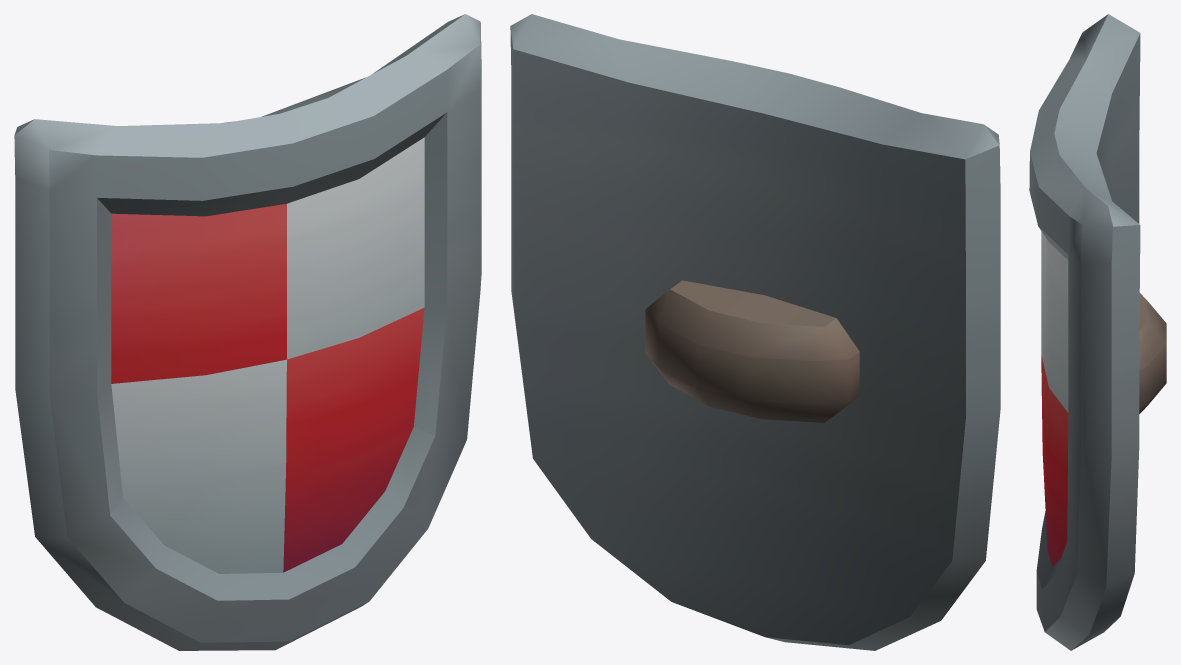
The model's file is shield_badge_color.glb.
The picture shows the model from 3 angles, left to right: view 1: azimuth 30°, elevation 25°; view 2: azimuth 150°, elevation 25°; view 3: azimuth 270°, elevation 25°; orthographic projection. The views are drawn at different scales.
Visible parts, largest first — view 1: shield_badge_color; view 2: shield_badge_color; view 3: shield_badge_color.
Boxes of the visible parts, x1=… form: shield_badge_color: x1=14, y1=14, x2=481, y2=650; shield_badge_color: x1=510, y1=14, x2=1000, y2=650; shield_badge_color: x1=1029, y1=14, x2=1166, y2=650.
Size of the model in its own units: 0.8827 by 1.02 by 0.2458.
1 material, 1 textured.
